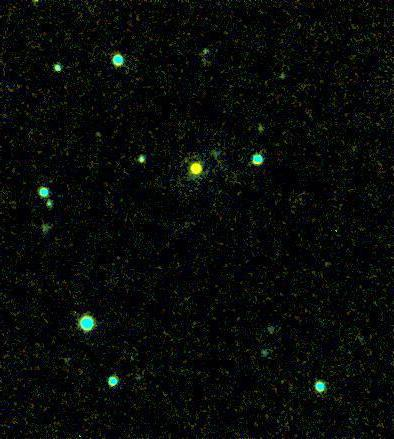star: (183, 153, 213, 183)
